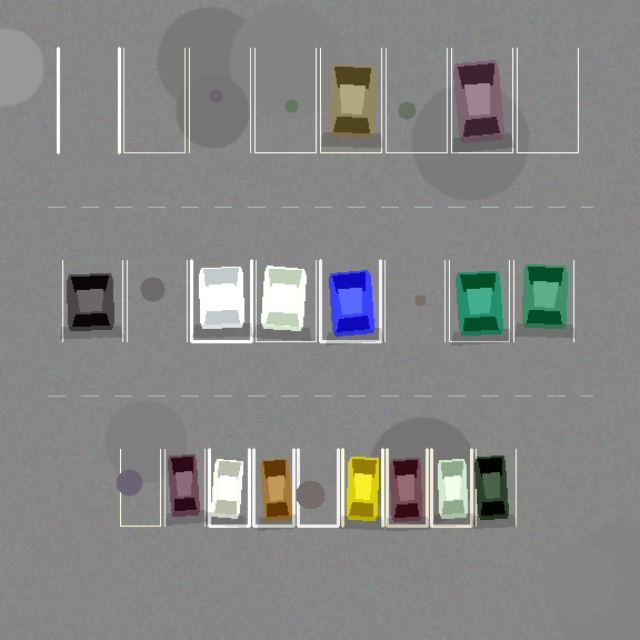space-empty: (254, 48, 316, 152), (58, 48, 119, 152), (123, 48, 184, 152), (189, 48, 250, 152), (386, 48, 447, 152), (517, 48, 578, 152), (127, 260, 187, 341), (384, 260, 444, 341), (120, 449, 160, 526), (298, 449, 338, 526)
space-occupied: (320, 48, 381, 152), (451, 48, 512, 152), (62, 260, 122, 341), (191, 260, 251, 341), (256, 260, 316, 341), (320, 260, 380, 341), (449, 260, 509, 341), (513, 260, 573, 341), (164, 449, 204, 526), (209, 449, 249, 526), (253, 449, 293, 526), (342, 449, 382, 526), (387, 449, 427, 526), (431, 449, 471, 526), (476, 449, 516, 526)
